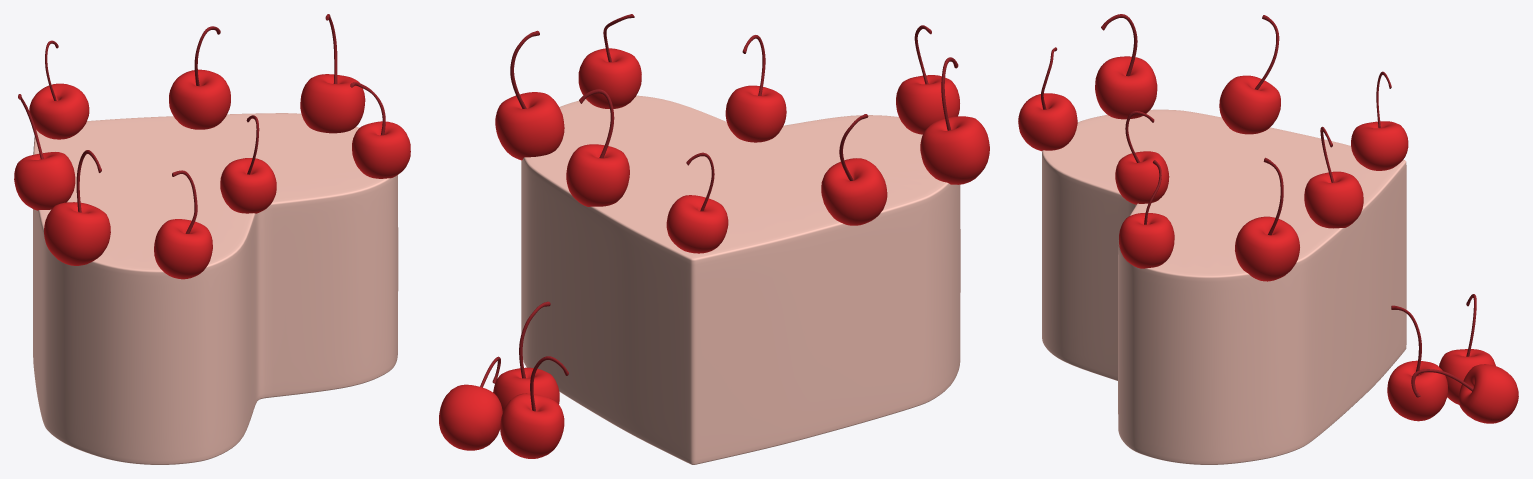
File: cherrycake1.glb
The picture shows the model from 3 angles, left to right: view 1: azimuth 30°, elevation 25°; view 2: azimuth 150°, elevation 25°; view 3: azimuth 270°, elevation 25°; orthographic projection. The views are drawn at different scales.
Parts seen in each view (by area): view 1: Plane.001, Cube.015, Cube.013, Cube.011, Cube.009, Cube.004, Cube.005, Cube.019, Cube.018; view 2: Plane.001, Cube.015, Cube.013, Cube.009, Cube.023, Cube.021, Cube.011, Cube.005, Cube.019, Cube.018, Cube.004, Cube.025; view 3: Plane.001, Cube.013, Cube.015, Cube.009, Cube.025, Cube.011, Cube.023, Cube.004, Cube.005, Cube.019, Cube.018, Cube.021.
Part boxes in pixels (x1,y1,x2,y2): Plane.001: [33, 113, 398, 464]; Cube.015: [44, 202, 110, 265]; Cube.013: [300, 74, 365, 133]; Cube.011: [169, 69, 230, 129]; Cube.009: [14, 152, 75, 210]; Cube.004: [154, 219, 212, 279]; Cube.005: [352, 121, 410, 178]; Cube.019: [29, 83, 89, 139]; Cube.018: [220, 158, 276, 213]; Plane.001: [521, 95, 960, 464]; Cube.015: [920, 116, 989, 184]; Cube.013: [495, 92, 564, 160]; Cube.009: [821, 158, 887, 225]; Cube.023: [439, 384, 502, 450]; Cube.021: [500, 393, 564, 458]; Cube.011: [566, 144, 629, 206]; Cube.005: [578, 48, 641, 108]; Cube.019: [666, 195, 728, 253]; Cube.018: [725, 85, 786, 142]; Cube.004: [896, 75, 959, 134]; Cube.025: [493, 367, 559, 412]; Plane.001: [1042, 109, 1406, 464]; Cube.013: [1235, 216, 1299, 281]; Cube.015: [1095, 56, 1157, 119]; Cube.009: [1219, 75, 1280, 134]; Cube.025: [1387, 360, 1447, 421]; Cube.011: [1304, 171, 1363, 228]; Cube.023: [1459, 364, 1518, 423]; Cube.004: [1018, 93, 1077, 151]; Cube.005: [1119, 213, 1174, 268]; Cube.019: [1351, 121, 1408, 170]; Cube.018: [1115, 151, 1169, 204]; Cube.021: [1439, 349, 1495, 404].
Bounding box in the file's own units: 9.76 × 7.35 × 11.3.
